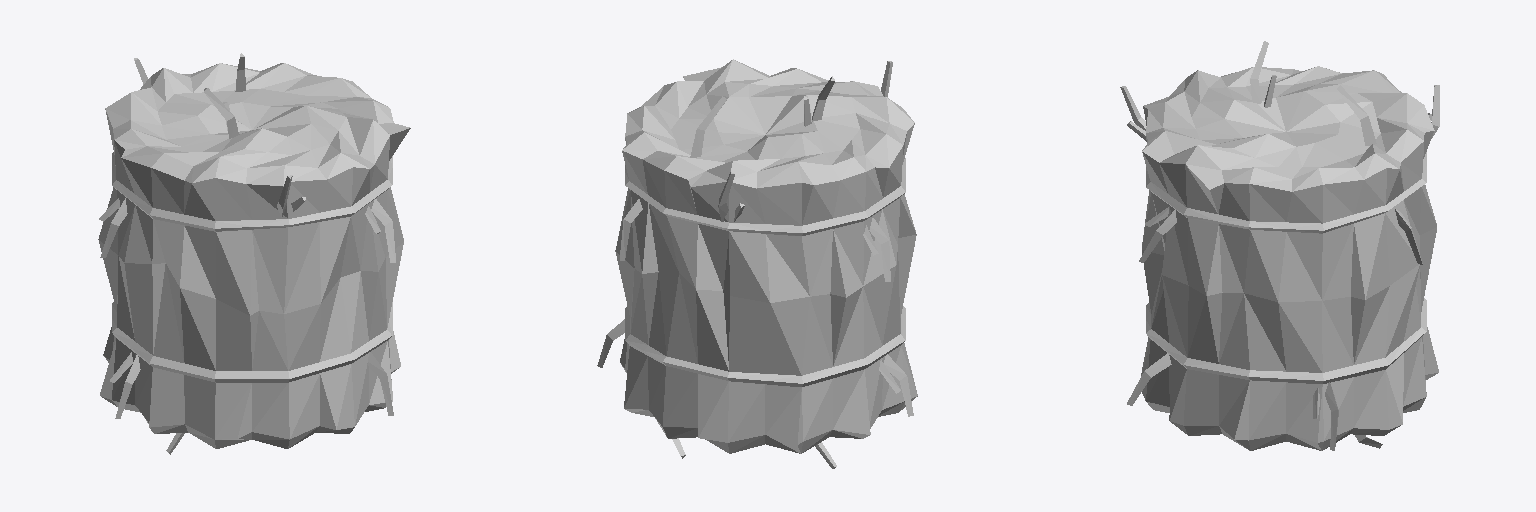
File: SM_Prop_Hay_Bale_Round_01_Green.obj
3 views of the same model, side by side, from view 1: azimuth 30°, elevation 25°; view 2: azimuth 150°, elevation 25°; view 3: azimuth 270°, elevation 25° (orthographic).
Size of the model in its own units: 126 by 158 by 122.